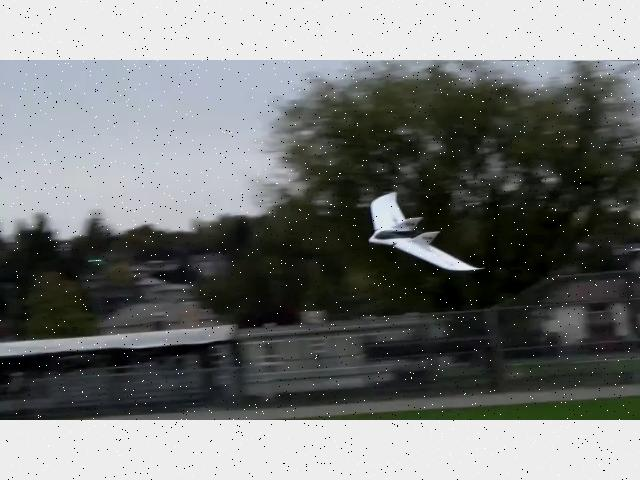Anti-Drone: (370, 191, 482, 271)
